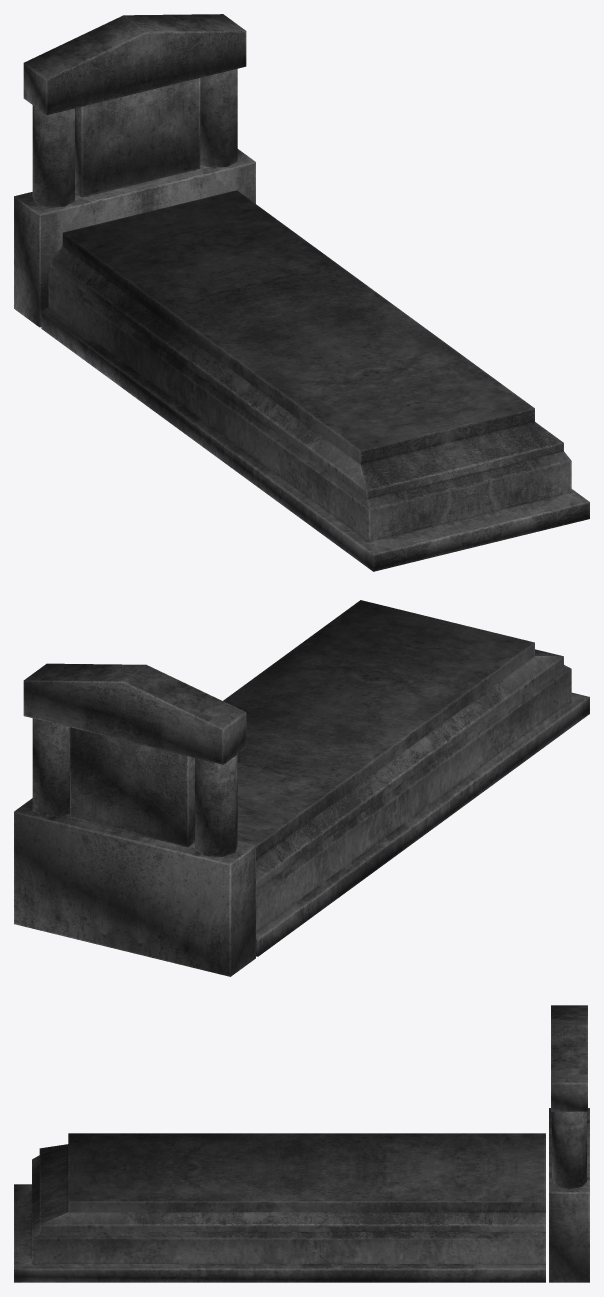
File: LongGrave.fbx
3 views of the same model, one above another, from view 1: azimuth 30°, elevation 25°; view 2: azimuth 150°, elevation 25°; view 3: azimuth 270°, elevation 25° (orthographic). The views are drawn at different scales.
Parts seen in each view (by area): view 1: defaultMaterial.001; view 2: defaultMaterial.001; view 3: defaultMaterial.001.
Boxes of the visible parts, x1,y1,x2,y2 form: defaultMaterial.001: (14, 14, 589, 571); defaultMaterial.001: (14, 600, 589, 976); defaultMaterial.001: (14, 1005, 589, 1282).
Size of the model in its own units: 68.7 by 81.21 by 197.
